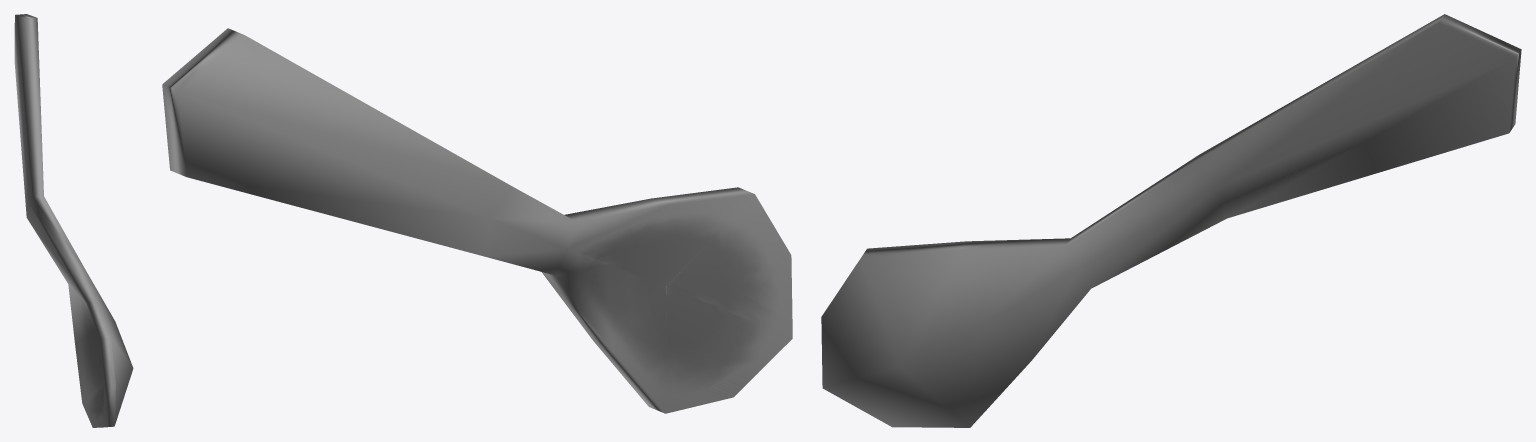
Rendered from Spoon.fbx.
3 renders of one model, left to right at view 1: azimuth 30°, elevation 25°; view 2: azimuth 150°, elevation 25°; view 3: azimuth 270°, elevation 25°, orthographic. The views are drawn at different scales.
Parts seen in each view (by area): view 1: Spoon; view 2: Spoon; view 3: Spoon.
Part boxes in pixels (x1,y1,x2,y2): Spoon: (14, 14, 133, 427); Spoon: (162, 28, 792, 413); Spoon: (821, 14, 1521, 427).
Size of the model in its own units: 204 by 447 by 590.
